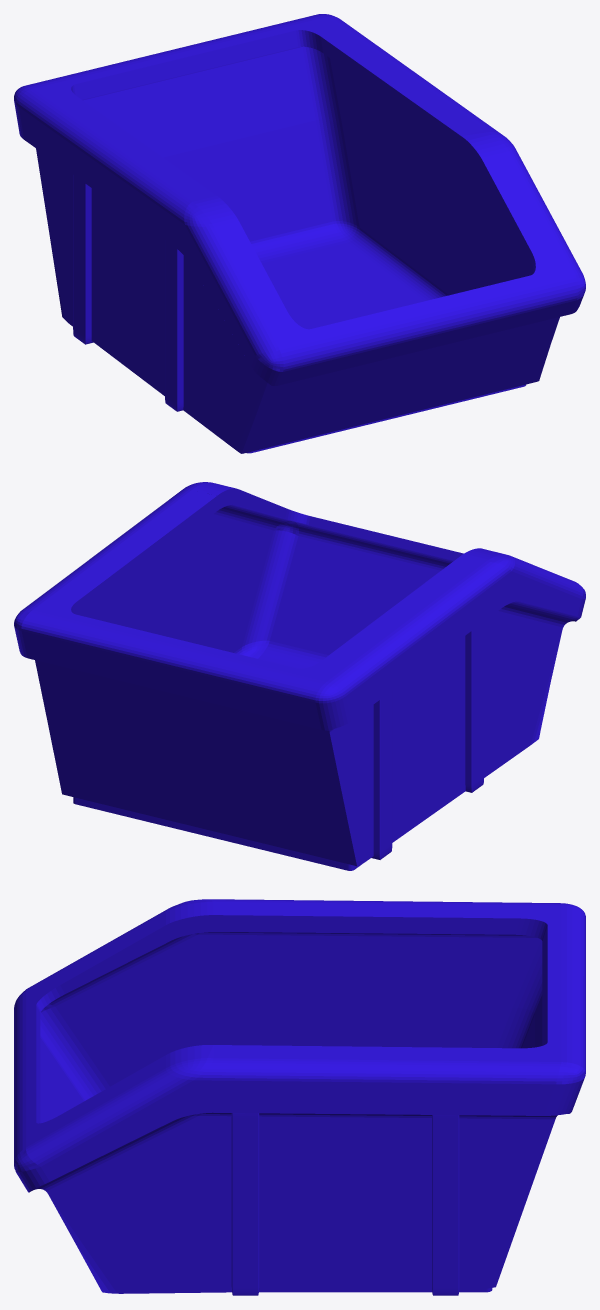
File: container.fbx
The picture shows the model from 3 angles, top to bottom: view 1: azimuth 30°, elevation 25°; view 2: azimuth 150°, elevation 25°; view 3: azimuth 270°, elevation 25°; orthographic projection. The views are drawn at different scales.
Parts seen in each view (by area): view 1: container; view 2: container; view 3: container.
Boxes of the visible parts, box(x1,y1,x2,y2) form: container: box(14, 14, 585, 453); container: box(14, 482, 585, 870); container: box(14, 899, 585, 1295).
Bounding box in the file's own units: 324 × 207 × 451.
